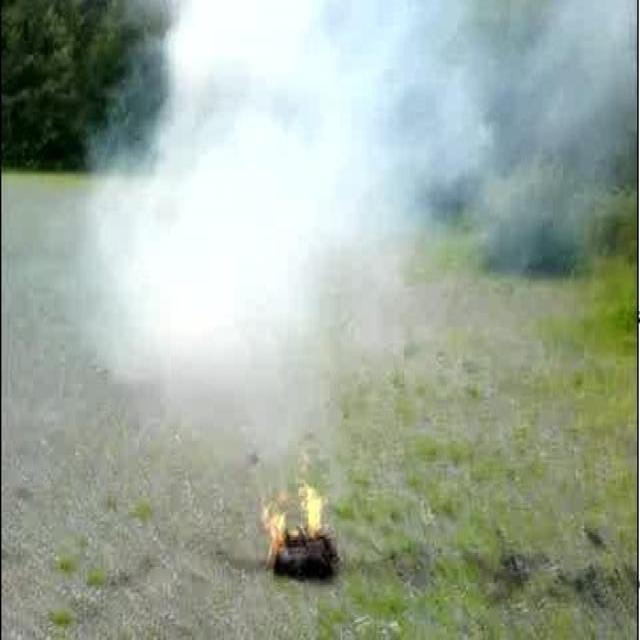Fire: (260, 480, 330, 569)
Smoke: (79, 0, 636, 471)
